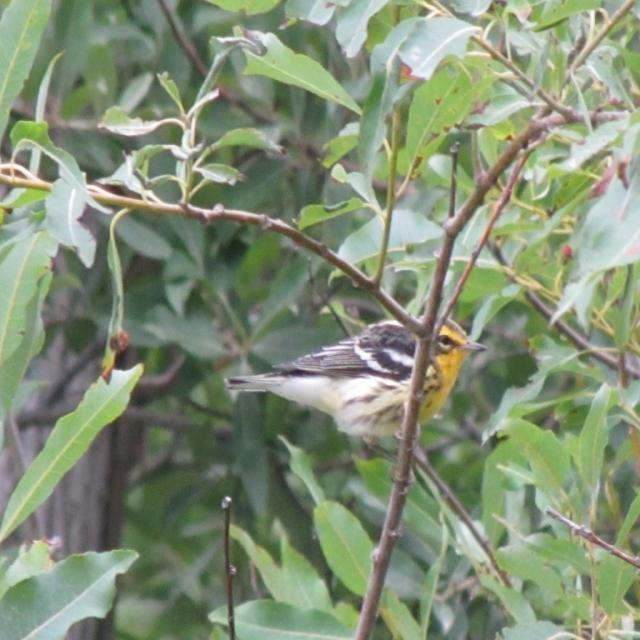bird: (232, 307, 491, 444)
